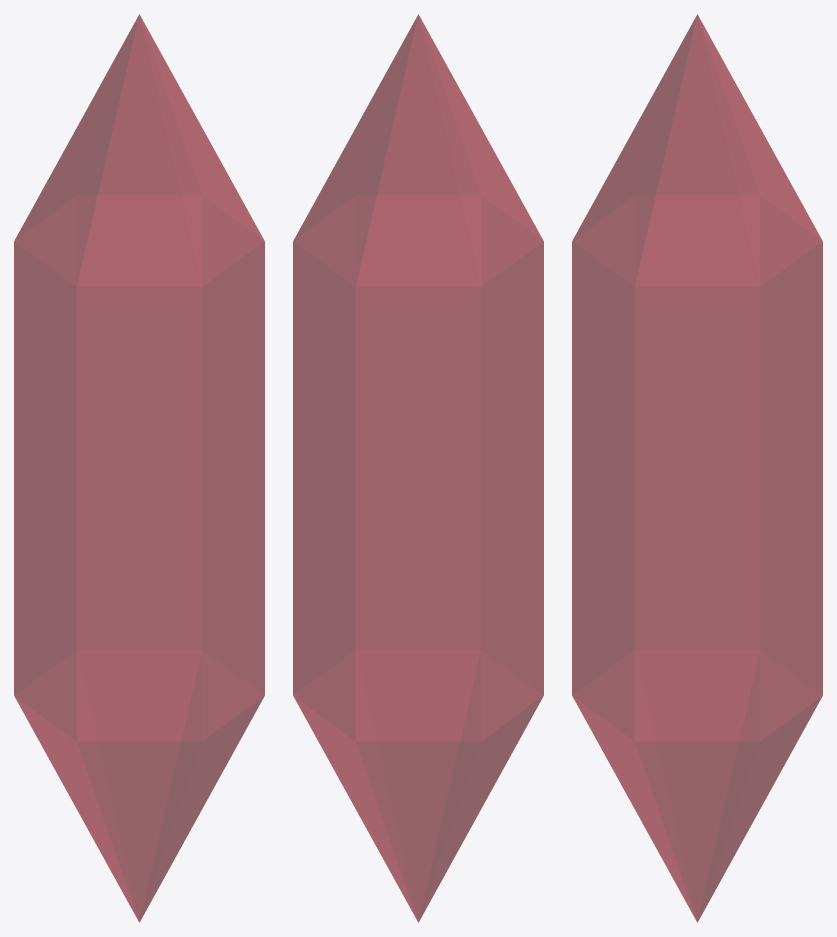
The model's file is Crystal_RED.fbx.
The picture shows the model from 3 angles, left to right: view 1: azimuth 30°, elevation 25°; view 2: azimuth 150°, elevation 25°; view 3: azimuth 270°, elevation 25°; orthographic projection.
Visible parts, largest first — view 1: Cube; view 2: Cube; view 3: Cube.
Part boxes in pixels (bbox=[...]): Cube: bbox=[14, 14, 264, 922]; Cube: bbox=[293, 14, 543, 922]; Cube: bbox=[572, 14, 822, 922].
Size of the model in its own units: 43.3 by 200 by 50.
